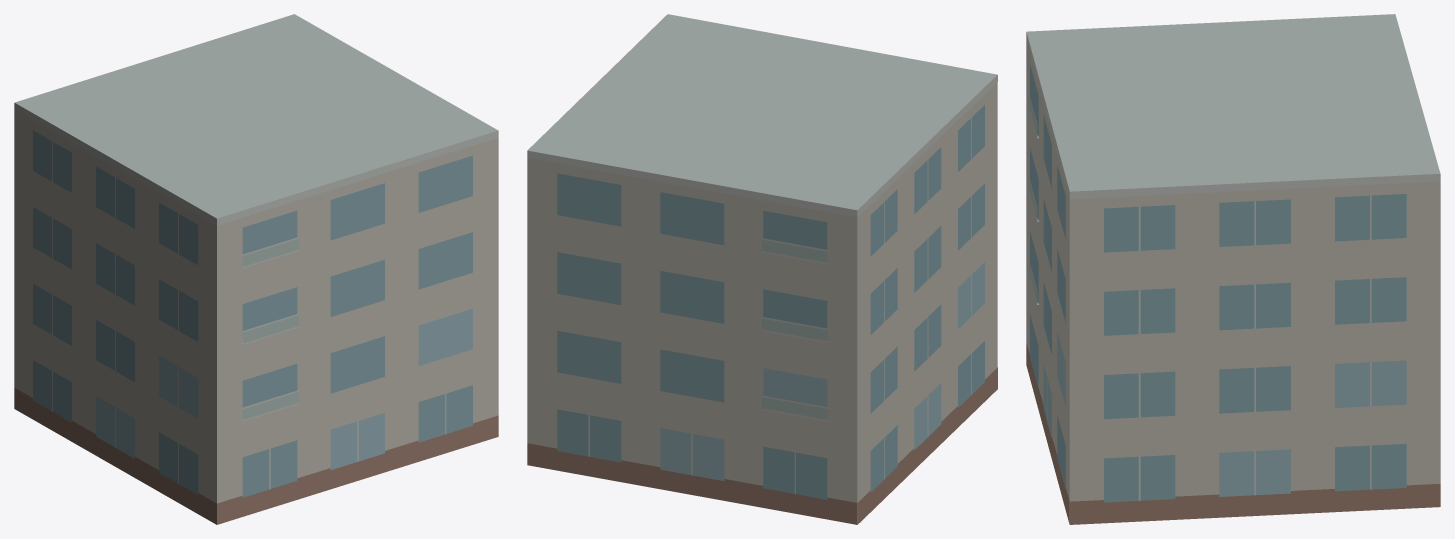
Rendered from survey-upis-32548753.glb.
3 views of the same model, side by side, from view 1: azimuth 30°, elevation 25°; view 2: azimuth 150°, elevation 25°; view 3: azimuth 270°, elevation 25° (orthographic). The views are drawn at different scales.
Parts seen in each view (by area): view 1: survey-upis-32548753.tmp; view 2: survey-upis-32548753.tmp; view 3: survey-upis-32548753.tmp.
Boxes of the visible parts, x1,y1,x2,y2 form: survey-upis-32548753.tmp: (14,14,498,524); survey-upis-32548753.tmp: (527,14,997,524); survey-upis-32548753.tmp: (1026,14,1440,524).
Size of the model in its own units: 12.13 by 10.6 by 11.95.
